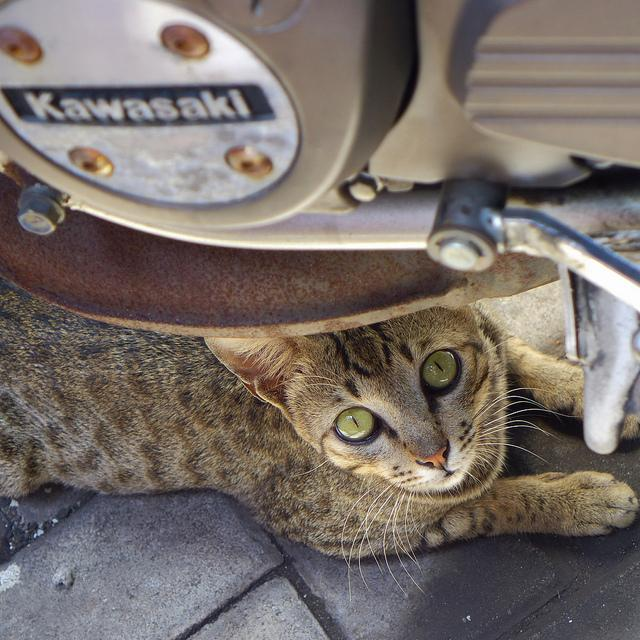motor: (3, 4, 637, 449)
